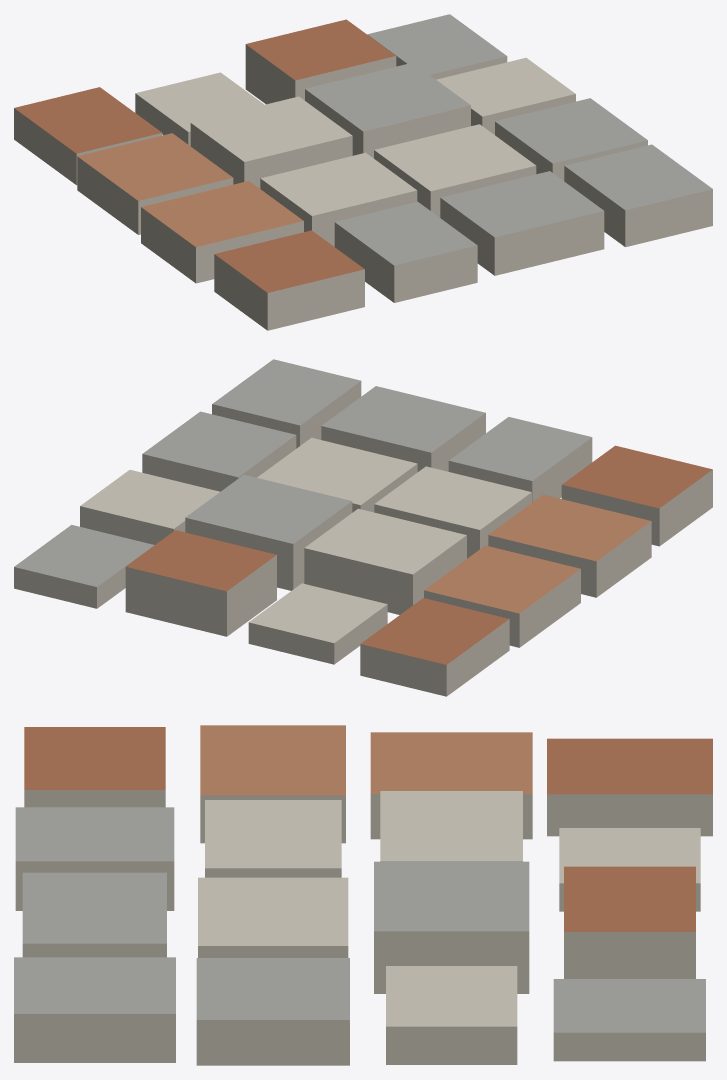
The model's file is quadra_1.glb.
3 renders of one model, top to bottom at view 1: azimuth 30°, elevation 25°; view 2: azimuth 150°, elevation 25°; view 3: azimuth 270°, elevation 25°, orthographic. The views are drawn at different scales.
Visible parts, largest first — view 1: d, c, a, b; view 2: d, c, a, b; view 3: d, c, a, b.
Boxes of the visible parts, x1,y1,x2,y2 form: d: [14, 34, 712, 330]; c: [305, 14, 712, 265]; a: [14, 19, 395, 292]; b: [78, 133, 303, 247]; d: [14, 381, 712, 696]; c: [14, 359, 591, 586]; a: [126, 445, 712, 664]; b: [424, 494, 651, 613]; d: [14, 790, 712, 1065]; c: [14, 807, 705, 1032]; a: [24, 727, 712, 931]; b: [200, 725, 532, 795].
Bounding box in the file's own units: 81.35 × 8.14 × 82.31.
